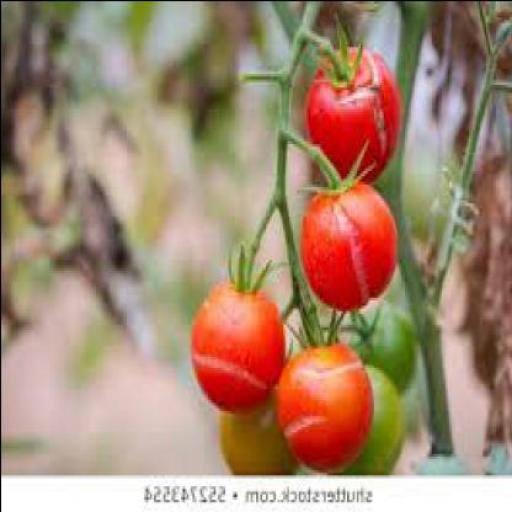biodegradable: (274, 304, 376, 466), (305, 8, 404, 173), (304, 134, 400, 304), (189, 242, 286, 410), (324, 361, 402, 472), (220, 391, 303, 472), (348, 299, 415, 391)
